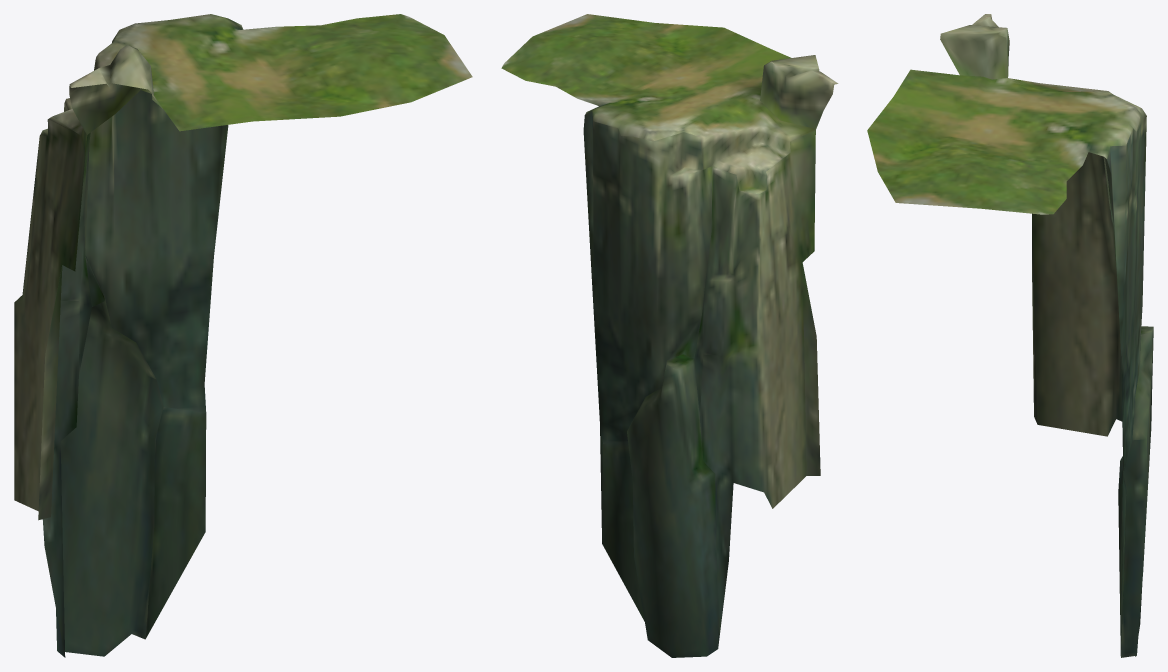
The model's file is S_Rock_Green054_H6.FBX.
3 views of the same model, side by side, from view 1: azimuth 30°, elevation 25°; view 2: azimuth 150°, elevation 25°; view 3: azimuth 270°, elevation 25° (orthographic). The views are drawn at different scales.
Parts seen in each view (by area): view 1: S_Rock_Green054_H6; view 2: S_Rock_Green054_H6; view 3: S_Rock_Green054_H6.
Part boxes in pixels (<box>): S_Rock_Green054_H6: <box>14,14,472,657</box>; S_Rock_Green054_H6: <box>501,14,838,657</box>; S_Rock_Green054_H6: <box>867,14,1153,657</box>.
Bounding box in the file's own units: 824 × 1413 × 604.
